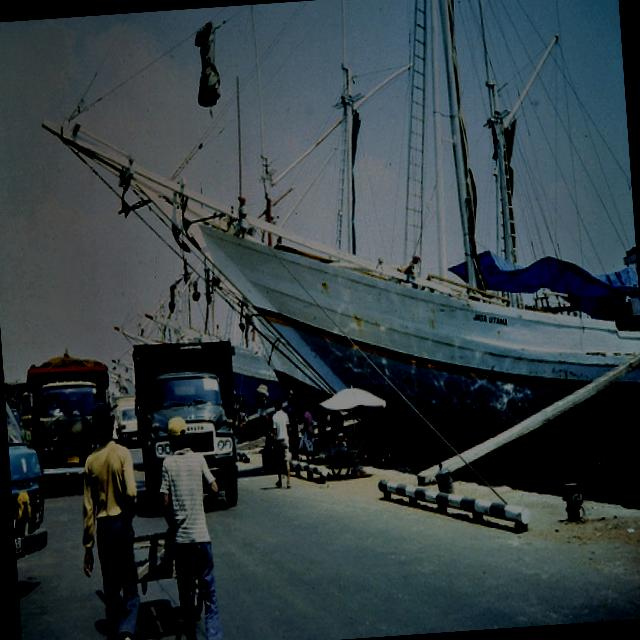Vehicle: (130, 338, 248, 516), (22, 344, 116, 482), (3, 376, 49, 562), (112, 394, 142, 450)
